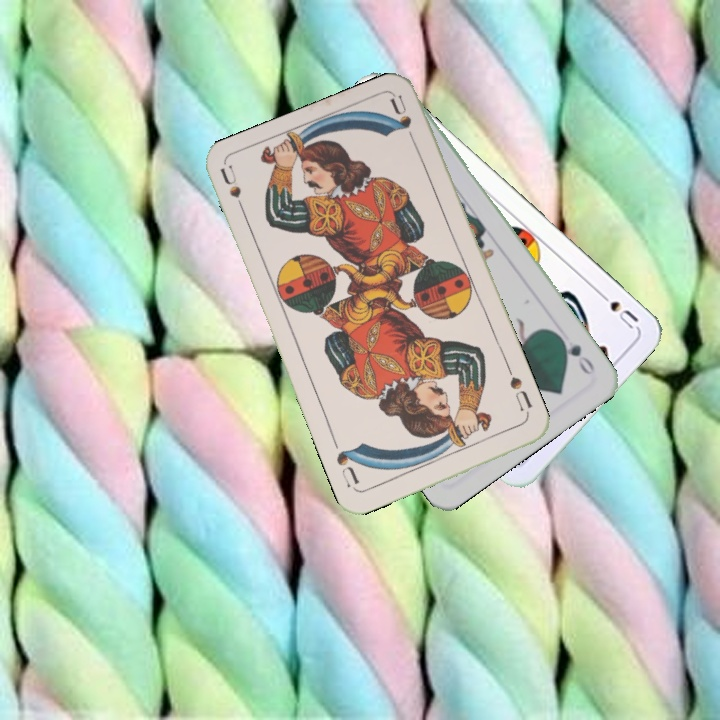GO: (554, 331, 598, 378)
SU: (592, 286, 641, 333), (217, 163, 250, 221), (505, 372, 535, 414)
